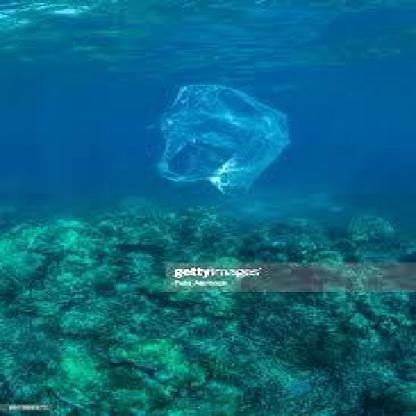pbag: (152, 83, 289, 195)
